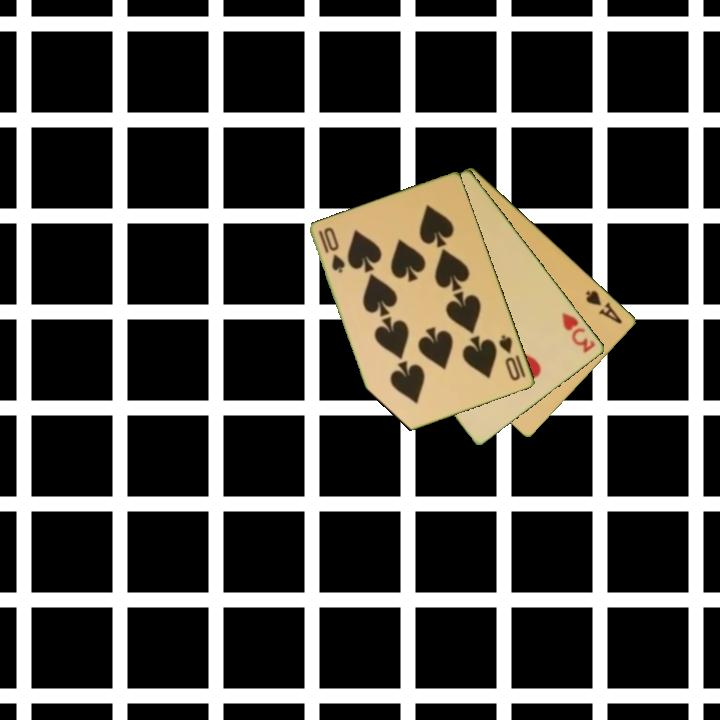10s: (315, 224, 348, 276), (496, 331, 524, 384)
3h: (558, 308, 599, 356)
As: (582, 286, 625, 327)
